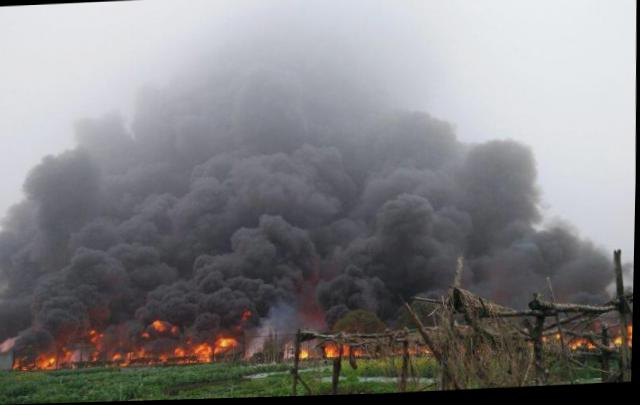fire: (216, 337, 241, 351), (198, 343, 215, 363), (41, 354, 61, 370), (92, 332, 105, 349), (328, 343, 341, 358), (155, 319, 168, 330), (128, 352, 136, 366), (614, 340, 625, 350), (629, 328, 633, 352), (575, 342, 586, 350), (93, 350, 101, 361), (115, 351, 124, 360), (346, 346, 353, 357), (175, 350, 186, 357), (304, 351, 312, 358)
